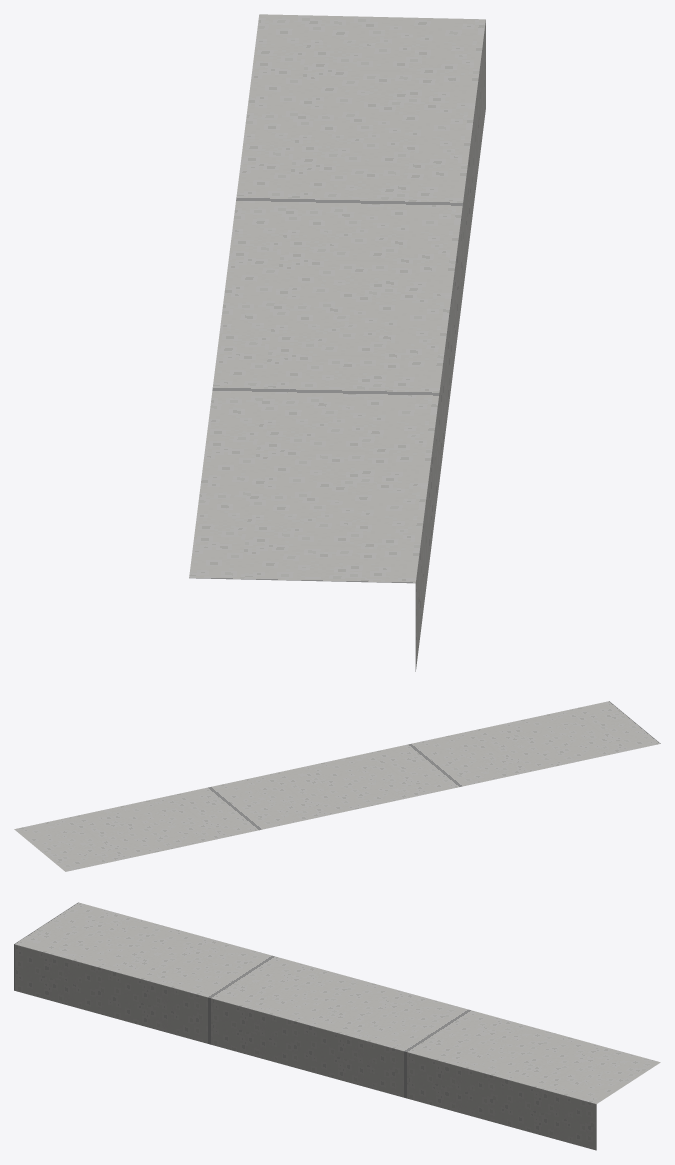
File: kd_stage_1363c5_11_4_bounded.glb
3 renders of one model, top to bottom at view 1: azimuth 30°, elevation 25°; view 2: azimuth 150°, elevation 25°; view 3: azimuth 270°, elevation 25°, orthographic. The views are drawn at different scales.
Visible parts, largest first — view 1: kd_stage_1363c5_11_4_bounded; view 2: kd_stage_1363c5_11_4_bounded; view 3: kd_stage_1363c5_11_4_bounded.
Part boxes in pixels (bbox=[...]): kd_stage_1363c5_11_4_bounded: bbox=[189, 14, 485, 671]; kd_stage_1363c5_11_4_bounded: bbox=[14, 701, 660, 871]; kd_stage_1363c5_11_4_bounded: bbox=[14, 902, 660, 1150].
Size of the model in its own units: 2.86 by 0.3068 by 3.87.
Materials: 1 (1 with a texture image).
